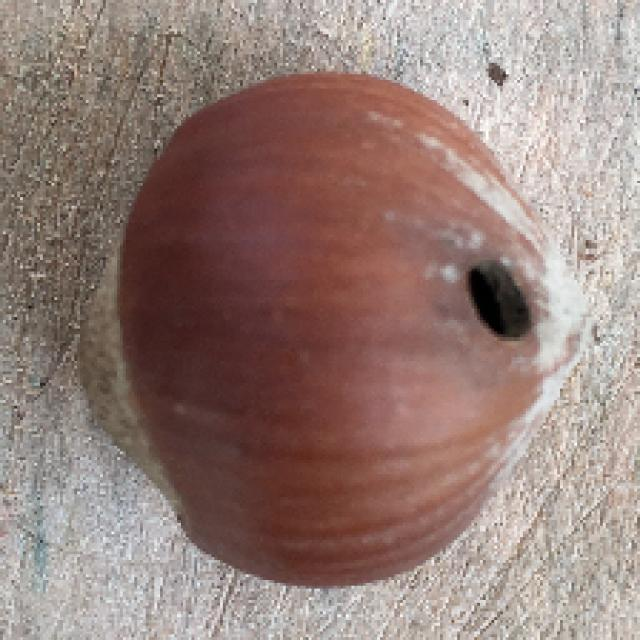damagedHazelnut: (92, 67, 597, 592)
